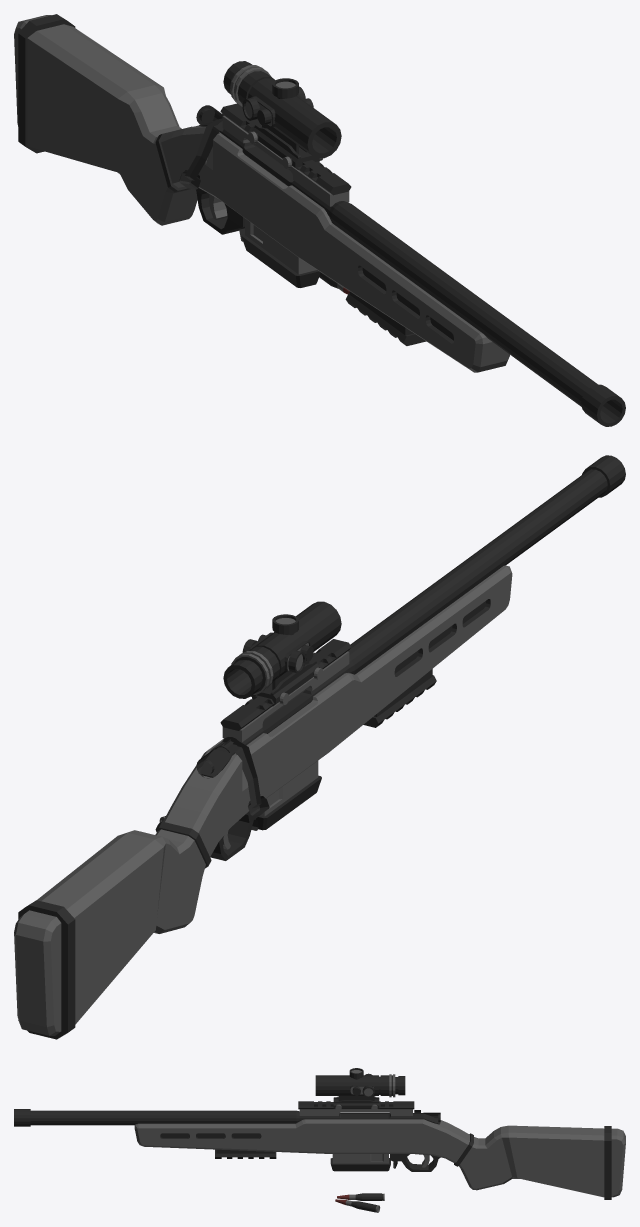
3 views of the same model, one above another, from view 1: azimuth 30°, elevation 25°; view 2: azimuth 150°, elevation 25°; view 3: azimuth 270°, elevation 25° (orthographic). The views are drawn at different scales.
Visible parts, largest first — view 1: R700_Receiver, M700_Barrel, M700_Scope, R700_Mag, M700_Bolt; view 2: R700_Receiver, M700_Barrel, M700_Scope, R700_Mag, M700_Bolt; view 3: R700_Receiver, M700_Barrel, M700_Scope, R700_Mag, M700_Ammo, M700_Ammo.001.
Part boxes in pixels (<box>): R700_Receiver: <box>14,14,509,372</box>; M700_Barrel: <box>199,103,625,426</box>; M700_Scope: <box>223,61,341,169</box>; R700_Mag: <box>241,218,320,287</box>; M700_Bolt: <box>179,105,291,189</box>; R700_Receiver: <box>14,565,512,1039</box>; M700_Barrel: <box>200,455,625,777</box>; M700_Scope: <box>223,601,341,706</box>; R700_Mag: <box>255,761,321,830</box>; M700_Bolt: <box>196,690,305,815</box>; R700_Receiver: <box>134,1119,625,1199</box>; M700_Barrel: <box>14,1101,439,1126</box>; M700_Scope: <box>315,1068,405,1111</box>; R700_Mag: <box>330,1154,390,1171</box>; M700_Ammo: <box>355,1193,384,1200</box>; M700_Ammo.001: <box>351,1201,380,1212</box>.
Bounding box in the file's own units: 0.1584 × 0.2435 × 1.08.
